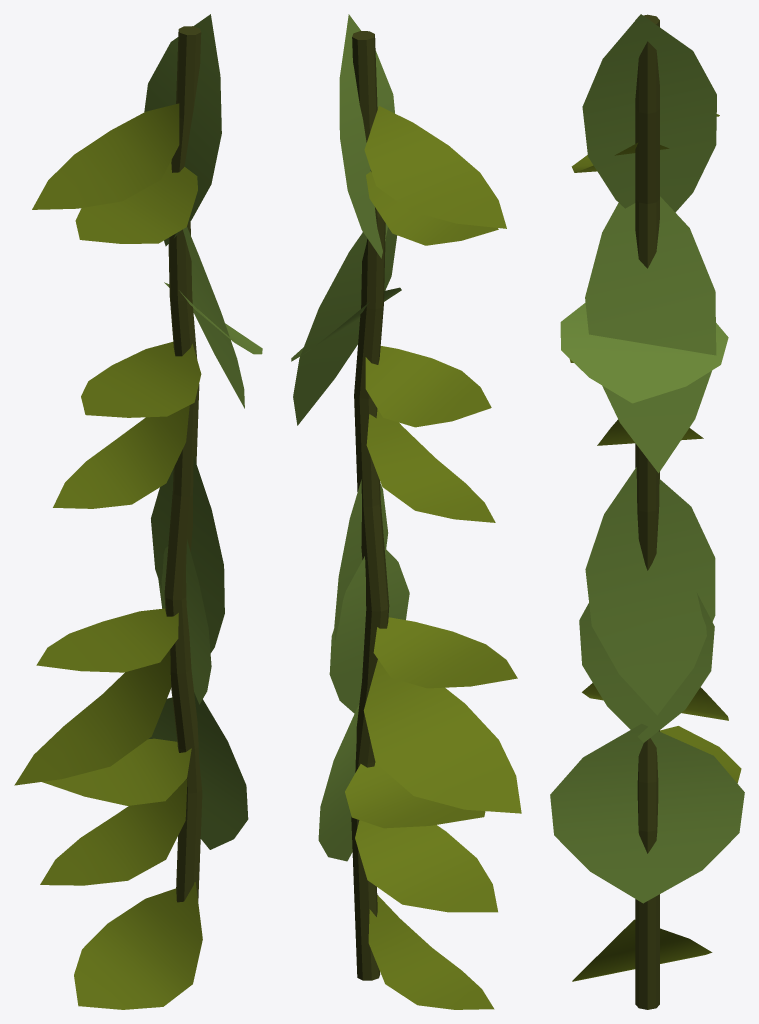
Rendered from ivy_small.fbx.
3 views of the same model, side by side, from view 1: azimuth 30°, elevation 25°; view 2: azimuth 150°, elevation 25°; view 3: azimuth 270°, elevation 25° (orthographic). The views are drawn at different scales.
Visible parts, largest first — view 1: Sweep, Plane_0, Plane_4, Plane_13, Plane_1, Plane_8, Plane_9, Plane_5, Plane_1_14, Plane_12, Plane_1_3, Plane_2 (+4 smaller); view 2: Plane_4, Sweep, Plane_13, Plane_1, Plane_9, Plane_5, Plane_8, Plane_0, Plane_1_11, Plane_1_14, Plane_1_6, Plane_2 (+3 smaller); view 3: Plane_1_3, Plane_1_7, Plane_1_11, Plane_1_14, Sweep, Plane_1_10, Plane_1_6, Plane_0, Plane_2, Plane_4, Plane_8.
Boxes of the visible parts, box(x1,y1,x2,y2) form: Sweep: box(164, 30, 202, 902); Plane_0: box(74, 882, 202, 1009); Plane_4: box(14, 649, 170, 785); Plane_13: box(32, 103, 179, 209); Plane_1: box(40, 779, 187, 885); Plane_8: box(53, 405, 189, 508); Plane_9: box(81, 342, 201, 417); Plane_5: box(36, 608, 178, 672); Plane_1_14: box(144, 14, 221, 246); Plane_12: box(75, 160, 197, 243); Plane_1_3: box(148, 692, 248, 849); Plane_2: box(42, 738, 191, 805); Plane_4: box(363, 659, 521, 813); Sweep: box(351, 35, 389, 980); Plane_13: box(364, 106, 506, 228); Plane_1: box(355, 820, 497, 912); Plane_9: box(365, 346, 491, 427); Plane_5: box(373, 617, 517, 688); Plane_8: box(366, 408, 495, 522); Plane_0: box(368, 895, 494, 1009); Plane_1_11: box(293, 227, 397, 425); Plane_1_14: box(339, 14, 394, 258); Plane_1_6: box(329, 548, 409, 713); Plane_2: box(345, 762, 485, 828); Plane_1_3: box(550, 723, 744, 903); Plane_1_7: box(585, 467, 715, 715); Plane_1_11: box(585, 196, 716, 473); Plane_1_14: box(582, 14, 716, 212); Sweep: box(635, 21, 659, 1009); Plane_1_10: box(560, 302, 728, 403); Plane_1_6: box(579, 593, 714, 742); Plane_0: box(572, 919, 712, 981); Plane_2: box(660, 726, 741, 783); Plane_4: box(582, 683, 728, 720); Plane_8: box(597, 419, 703, 445).
Size of the model in its own units: 45.63 by 180 by 31.28.
